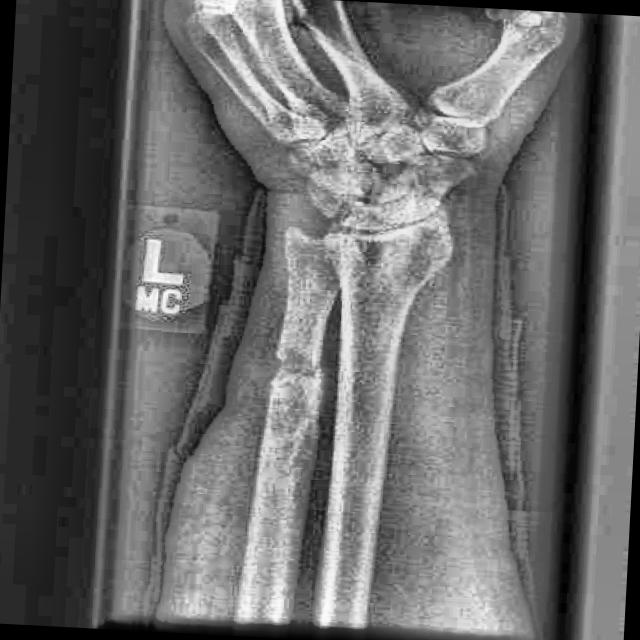wrist positive: (236, 334, 371, 427), (417, 149, 482, 181)
